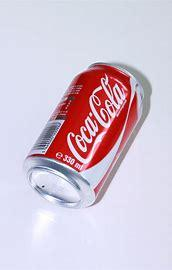metal: (24, 63, 151, 208)
